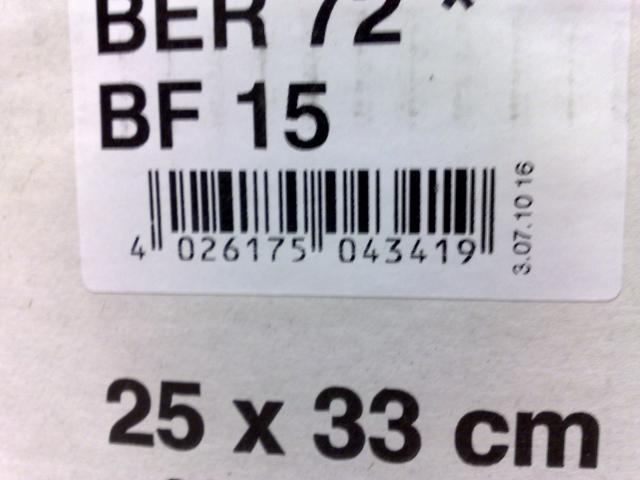Barcode: (128, 159, 499, 271)
